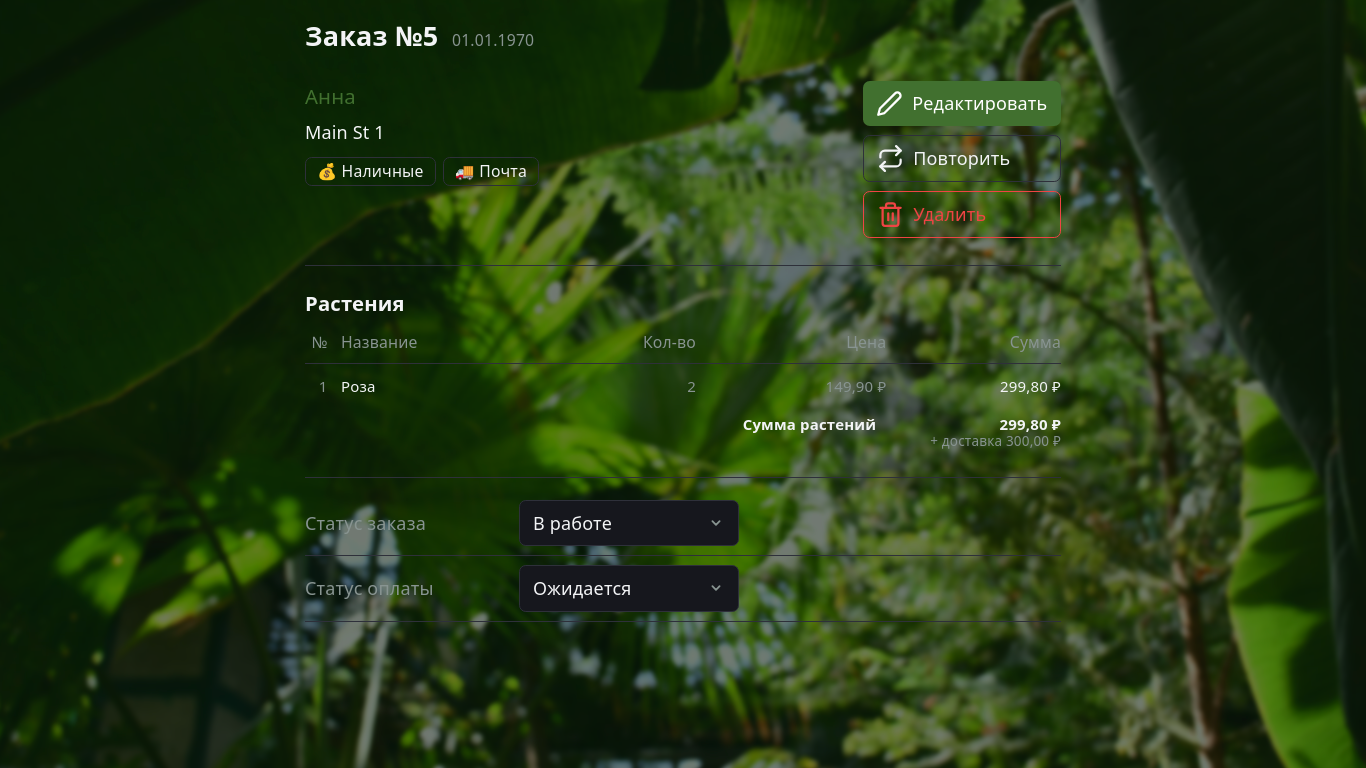
OrderDetailPage › explains the trash (no auto-deletion) in the delete-confirm dialog
Expected: the heading "Заказ №5" is shown, x1=305 y1=18 x2=438 y2=54
Click the button "Удалить": coordinates (962, 214) x1=863 y1=191 x2=1061 y2=238
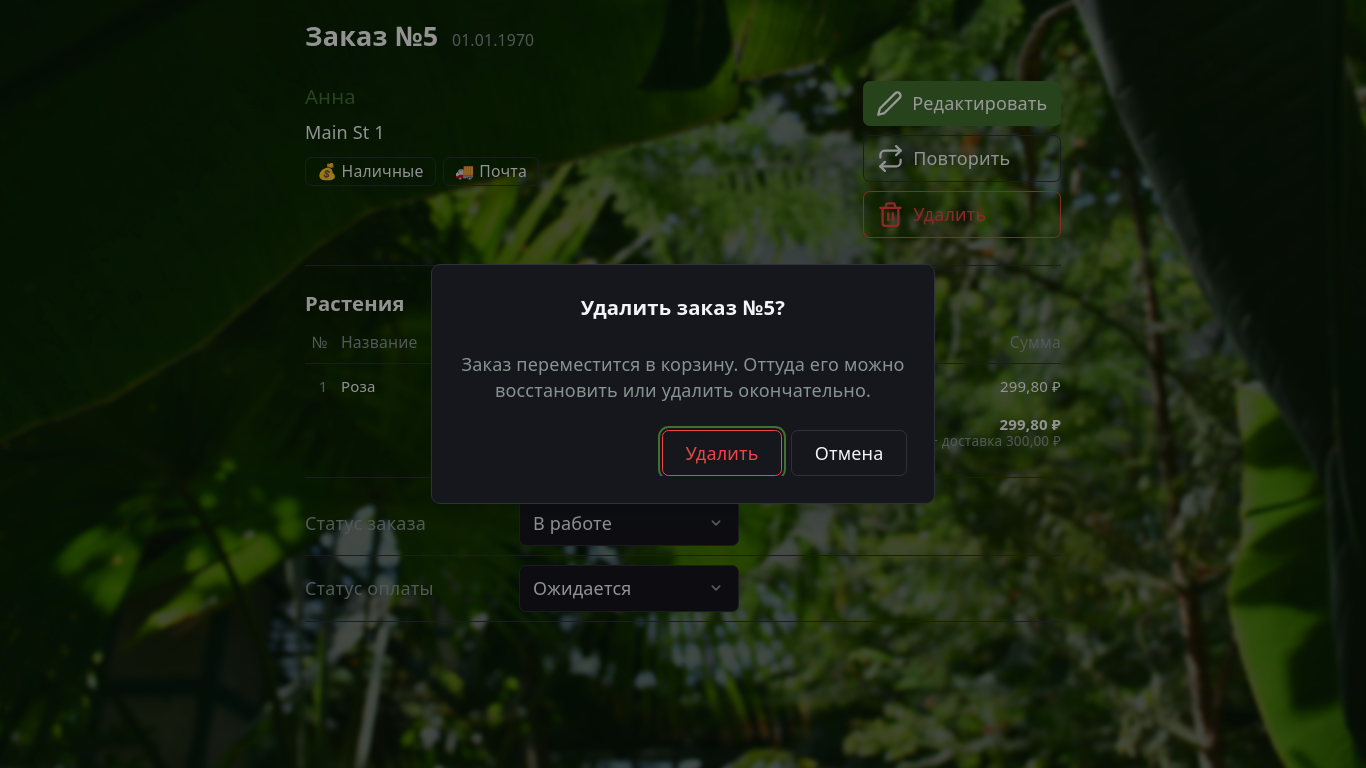
Result: the text "можно восстановить или удалить окончательно" is shown at x1=461 y1=352 x2=905 y2=402
